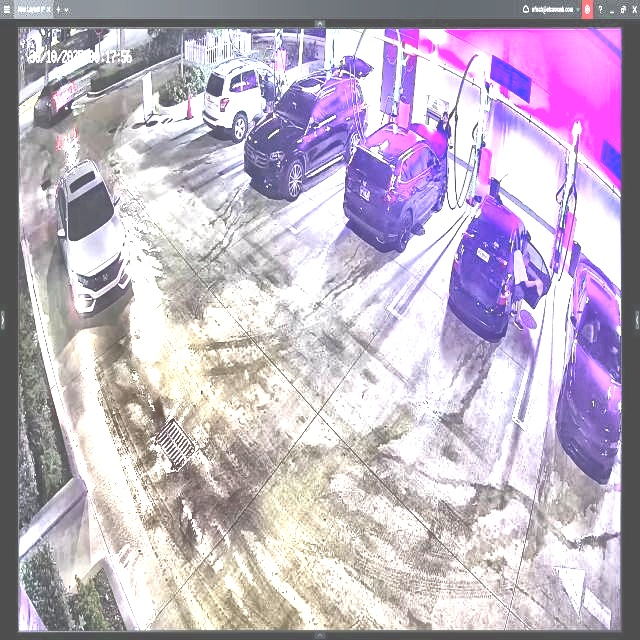Car: (245, 54, 372, 195), (447, 190, 552, 329), (347, 109, 445, 251)
